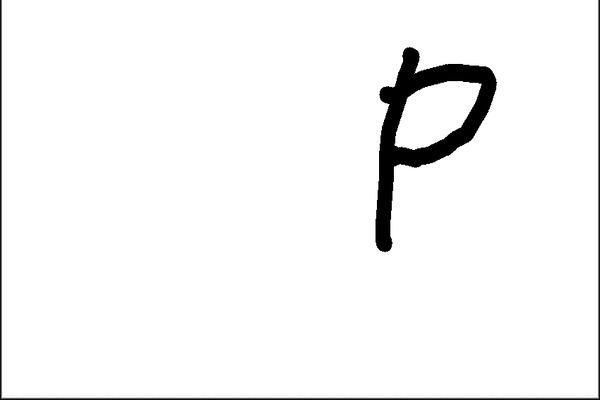P: (361, 41, 497, 257)
